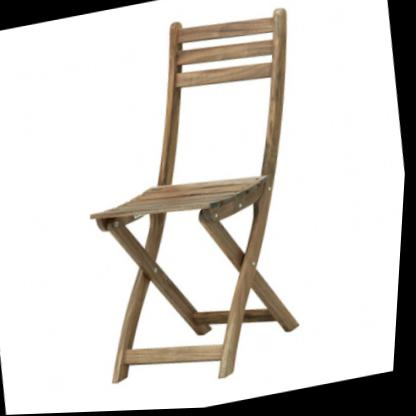Chair: (53, 0, 345, 402)
